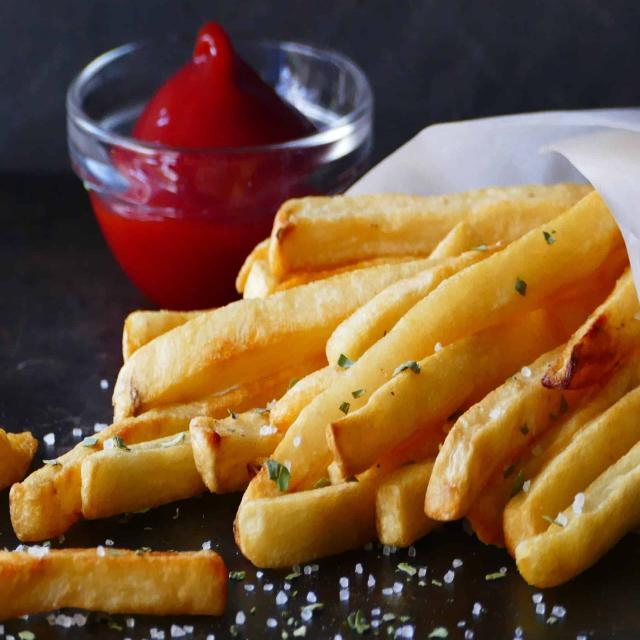frenchfries: (0, 188, 640, 620)
